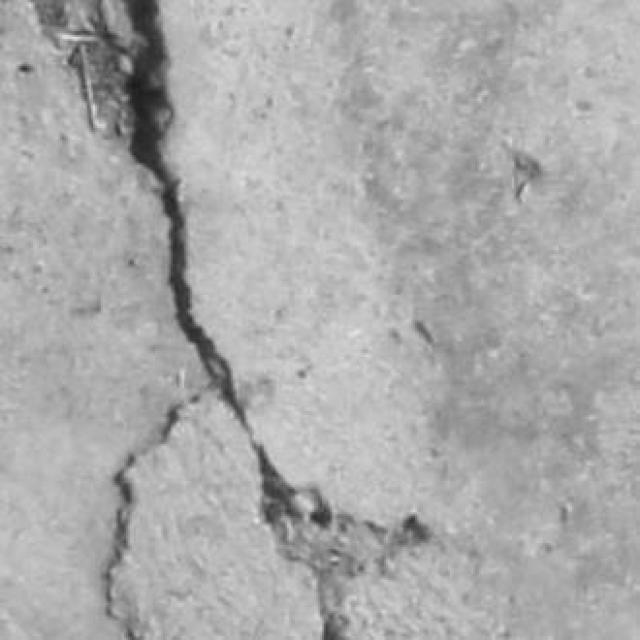crack: (121, 0, 430, 639), (33, 0, 138, 142)
